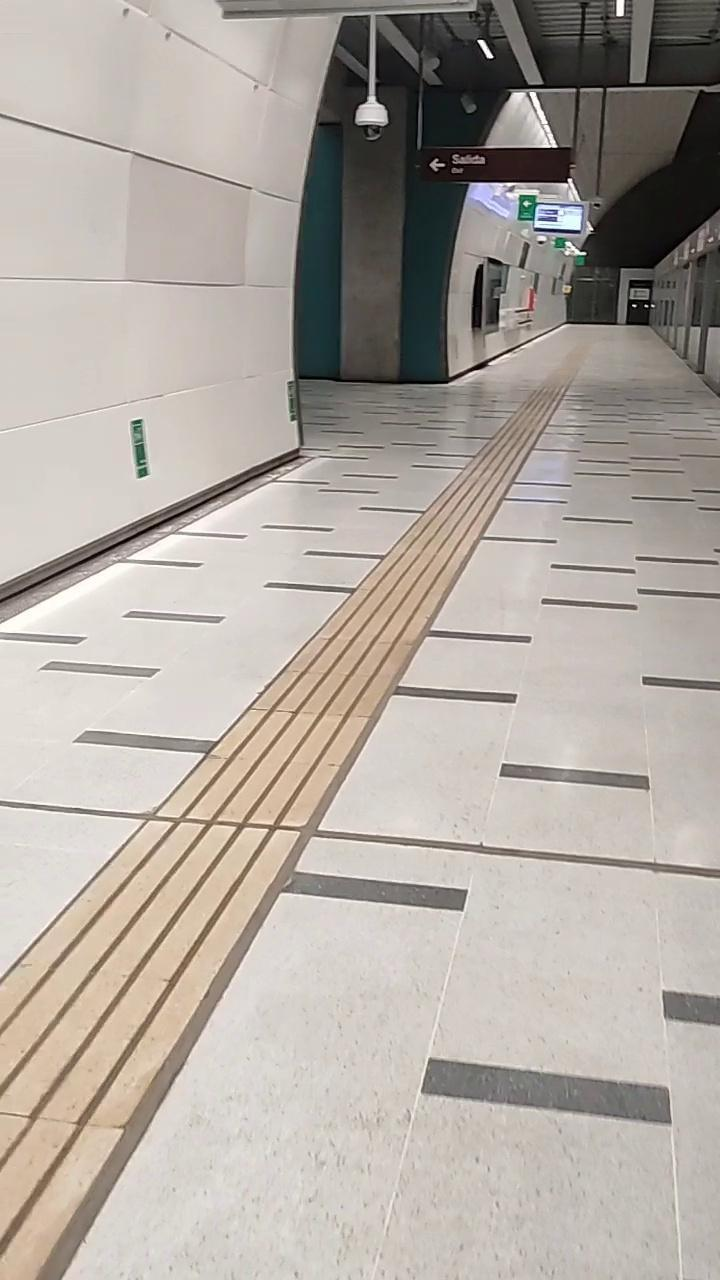left arrow: (426, 155, 447, 178)
